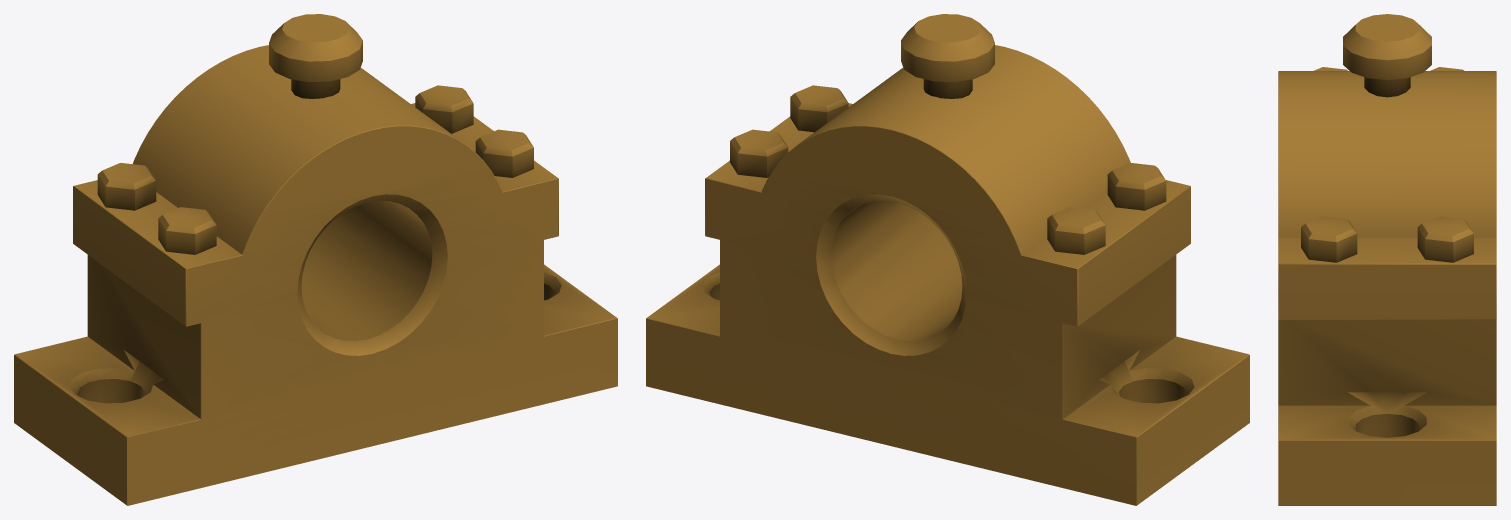
Rendered from bearing_pillow_block.glb.
3 views of the same model, side by side, from view 1: azimuth 30°, elevation 25°; view 2: azimuth 150°, elevation 25°; view 3: azimuth 270°, elevation 25° (orthographic). The views are drawn at different scales.
Visible parts, largest first — view 1: Bearing_PillowBlock; view 2: Bearing_PillowBlock; view 3: Bearing_PillowBlock.
Part boxes in pixels (x1,y1,x2,y2): Bearing_PillowBlock: [14, 14, 617, 505]; Bearing_PillowBlock: [646, 14, 1249, 505]; Bearing_PillowBlock: [1278, 14, 1496, 505].
Bounding box in the file's own units: 0.03 × 0.022 × 0.012.
